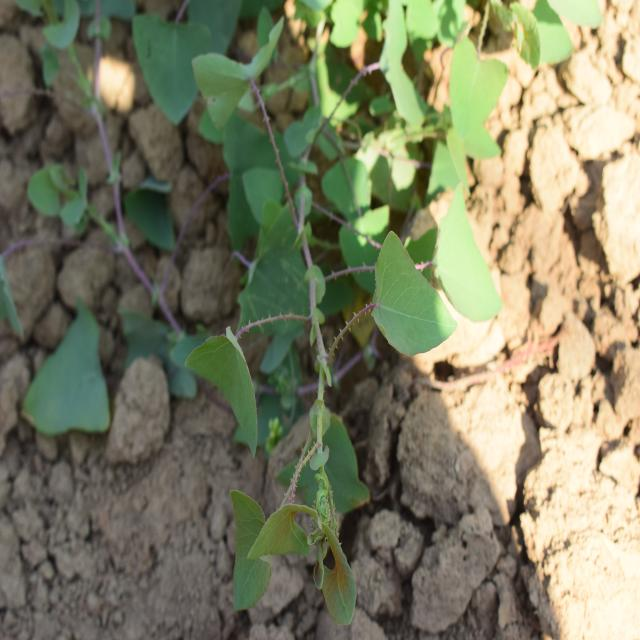Asiatic_Smartweed: (323, 28, 510, 356), (194, 302, 350, 616)
